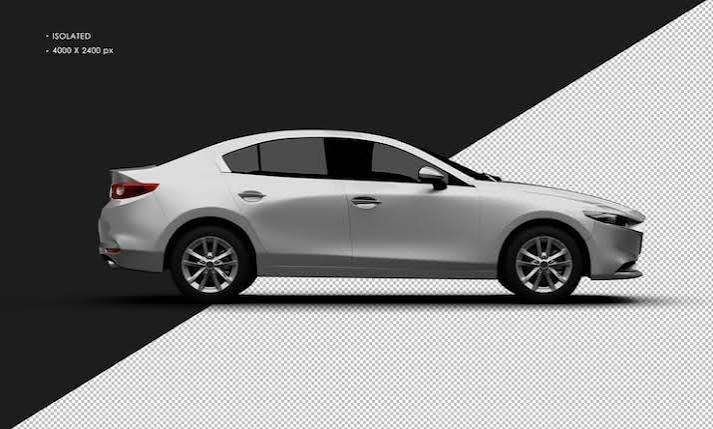car: (94, 133, 640, 299)
